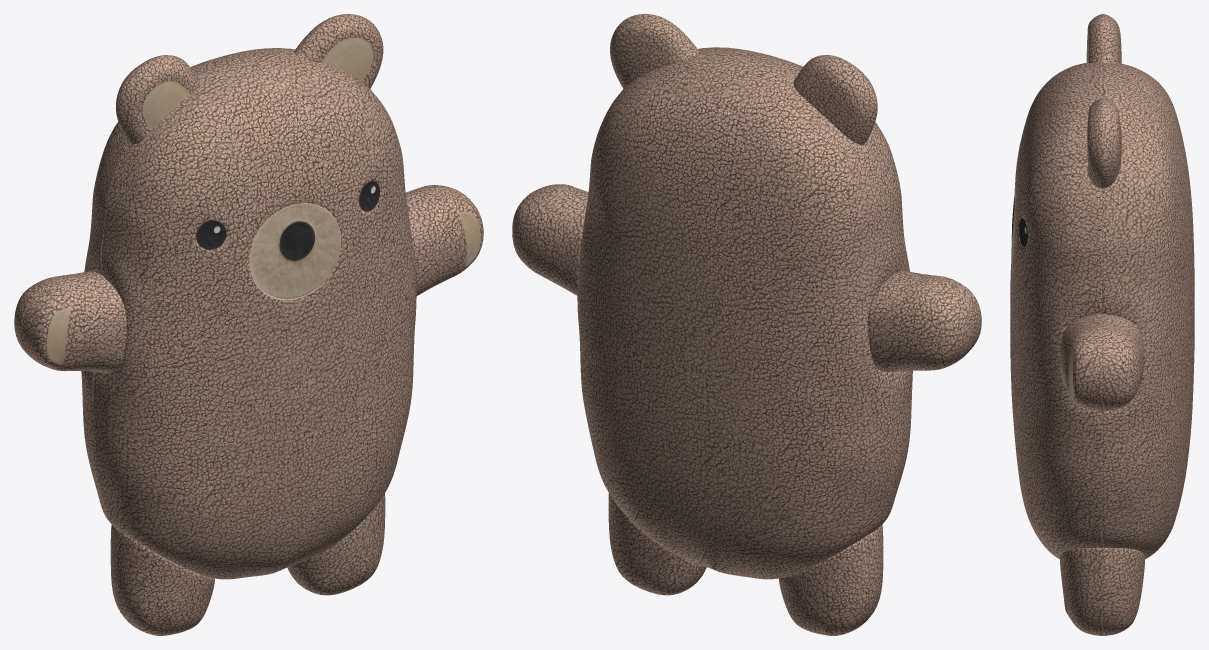
The model's file is grejsimojs_pluszak_80602083.glb.
The picture shows the model from 3 angles, left to right: view 1: azimuth 30°, elevation 25°; view 2: azimuth 150°, elevation 25°; view 3: azimuth 270°, elevation 25°; orthographic projection. The views are drawn at different scales.
Visible parts, largest first — view 1: grejsimojs_pluszak_80602083; view 2: grejsimojs_pluszak_80602083; view 3: grejsimojs_pluszak_80602083.
Part boxes in pixels (left/top/right/bottom): grejsimojs_pluszak_80602083: left=14, top=14, right=483, bottom=635; grejsimojs_pluszak_80602083: left=512, top=14, right=981, bottom=635; grejsimojs_pluszak_80602083: left=1010, top=14, right=1194, bottom=635.
Bounding box in the file's own units: 0.8275 × 1 × 0.3134.
2 materials, 2 textured.
